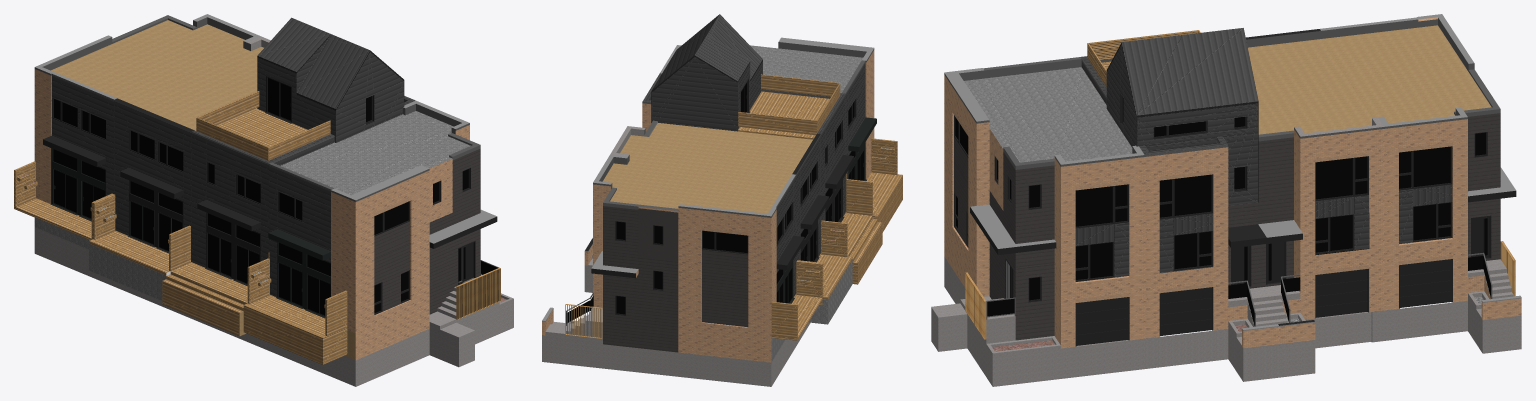
3 views of the same model, side by side, from view 1: azimuth 30°, elevation 25°; view 2: azimuth 150°, elevation 25°; view 3: azimuth 270°, elevation 25° (orthographic). The views are drawn at different scales.
Parts seen in each view (by area): view 1: Object003; view 2: Object003; view 3: Object003.
Boxes of the visible parts, x1,y1,x2,y2 form: Object003: (14,14,513,386); Object003: (542,14,902,386); Object003: (931,14,1521,386).
Bounding box in the file's own units: 729 × 583 × 1055.
28 materials, 21 textured.
